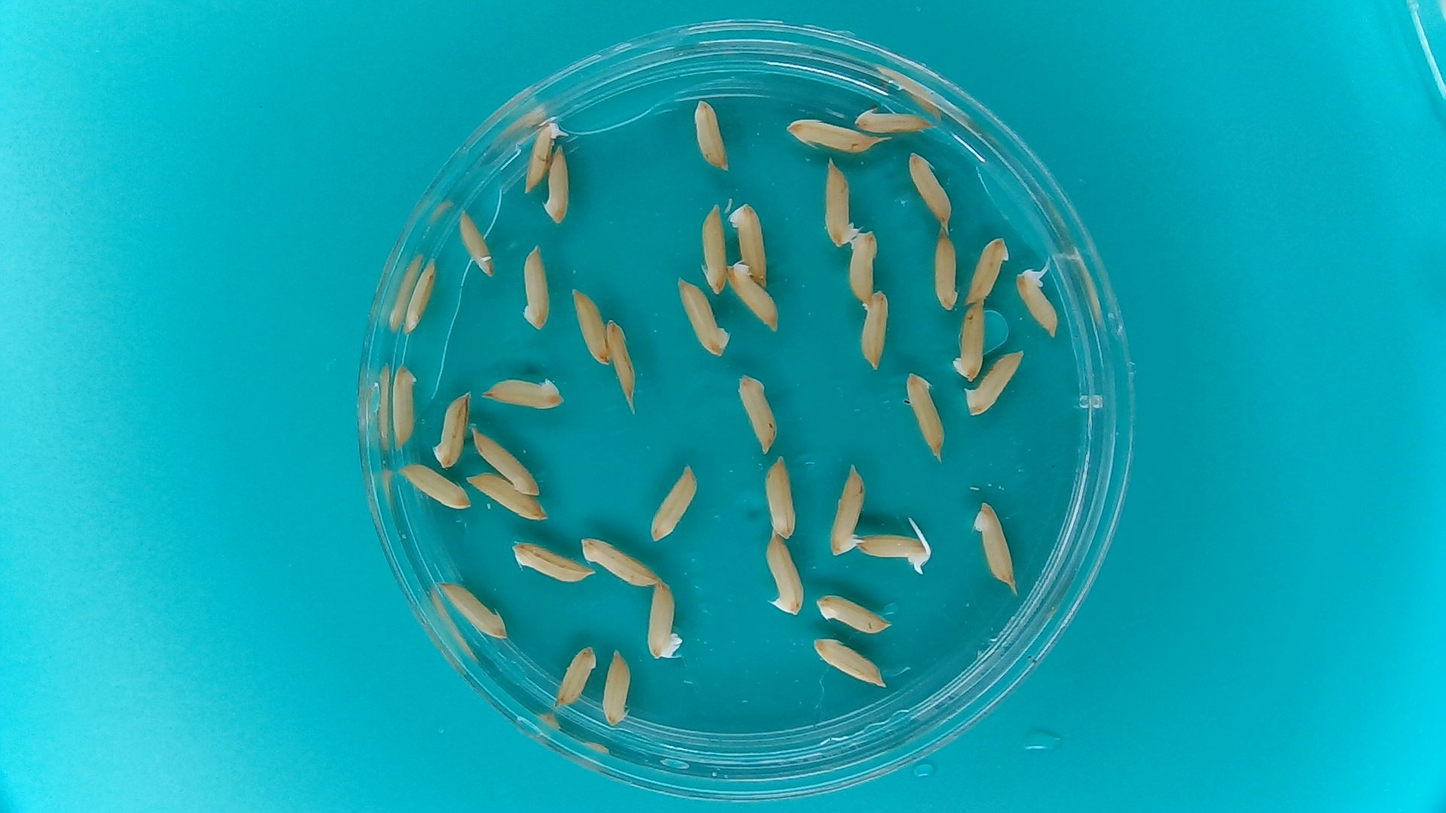no: (471, 425, 541, 497), (972, 501, 1021, 595), (438, 579, 508, 641), (647, 462, 699, 544), (677, 276, 729, 357), (466, 472, 548, 522), (962, 351, 1025, 416), (785, 117, 892, 154), (905, 371, 947, 464), (811, 637, 886, 688), (580, 537, 658, 586), (727, 263, 781, 332), (728, 202, 770, 289), (908, 151, 953, 232), (399, 461, 472, 510), (764, 531, 805, 617), (822, 154, 859, 249), (737, 373, 779, 456), (828, 463, 865, 557), (512, 541, 594, 583), (815, 593, 892, 636), (429, 389, 469, 471), (517, 244, 553, 335), (647, 579, 684, 664), (606, 318, 639, 413), (765, 455, 801, 540), (571, 288, 611, 364), (480, 375, 566, 410), (966, 236, 1009, 305), (700, 199, 731, 294), (554, 644, 598, 708), (459, 208, 496, 280), (402, 257, 437, 333), (695, 98, 731, 171), (955, 300, 987, 382), (390, 364, 419, 452), (541, 145, 572, 227), (601, 647, 632, 728), (859, 290, 889, 371), (855, 105, 932, 132), (935, 228, 959, 312), (850, 231, 877, 305)
yes: (1012, 269, 1063, 335), (523, 118, 563, 194), (856, 527, 932, 564)
